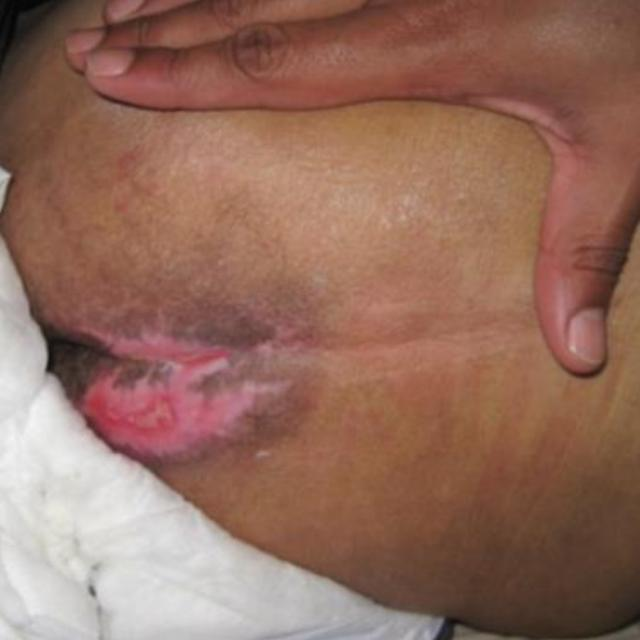stage-2: (90, 377, 181, 440)
